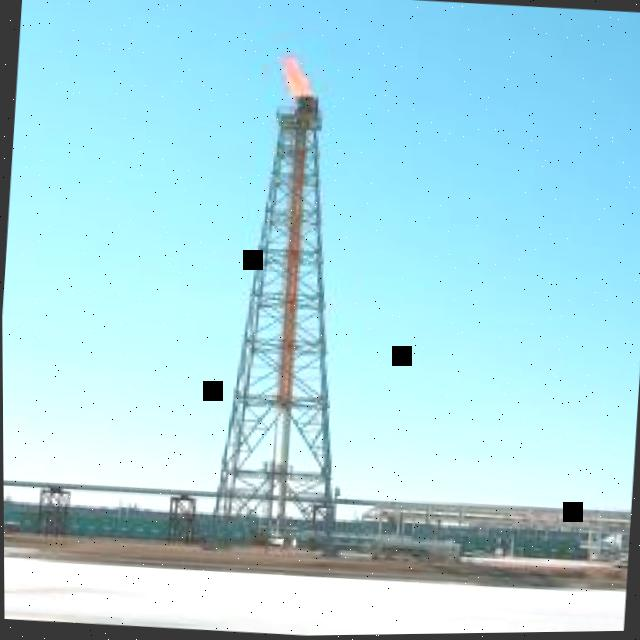fire: (277, 55, 312, 99)
